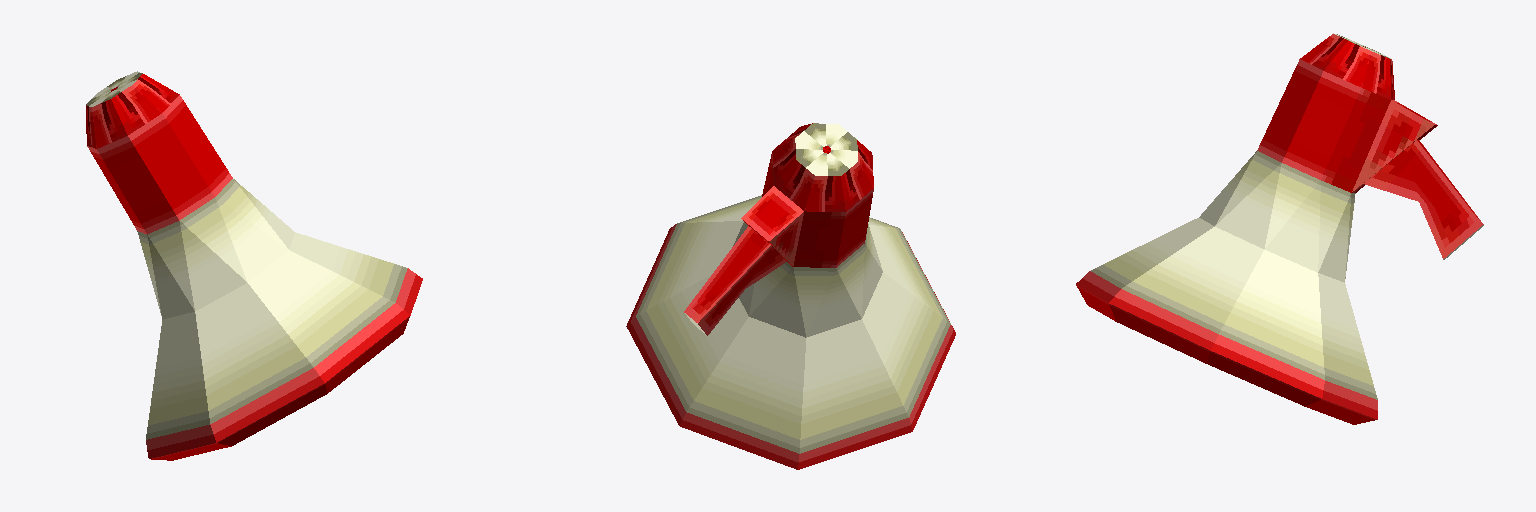
The picture shows the model from 3 angles: view 1: azimuth 30°, elevation 25°; view 2: azimuth 150°, elevation 25°; view 3: azimuth 270°, elevation 25°; orthographic projection.
Visible parts, largest first — view 1: vsn_mesh_0__mesh_0_; view 2: vsn_mesh_0__mesh_0_; view 3: vsn_mesh_0__mesh_0_.
Part boxes in pixels (left/top/right/bottom): vsn_mesh_0__mesh_0_: left=86, top=71, right=422, bottom=460; vsn_mesh_0__mesh_0_: left=626, top=123, right=955, bottom=469; vsn_mesh_0__mesh_0_: left=1076, top=33, right=1483, bottom=424.
Size of the model in its own units: 14.31 by 18.22 by 19.09.
Materials: 1 (1 with a texture image).